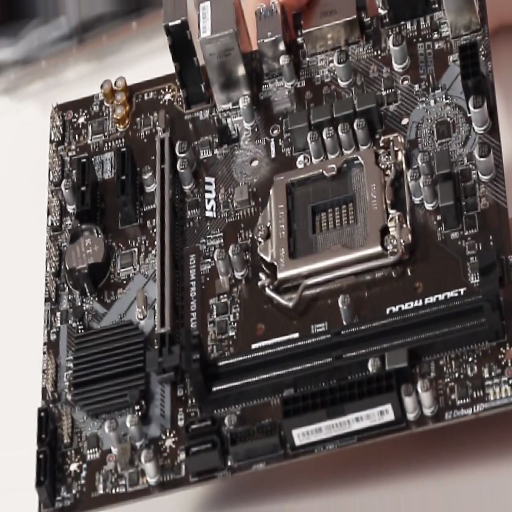CPU: (256, 135, 408, 289)
GPU: (145, 126, 181, 379)
MOTHERBOARD: (39, 2, 512, 511)
RAM: (189, 249, 502, 422)
